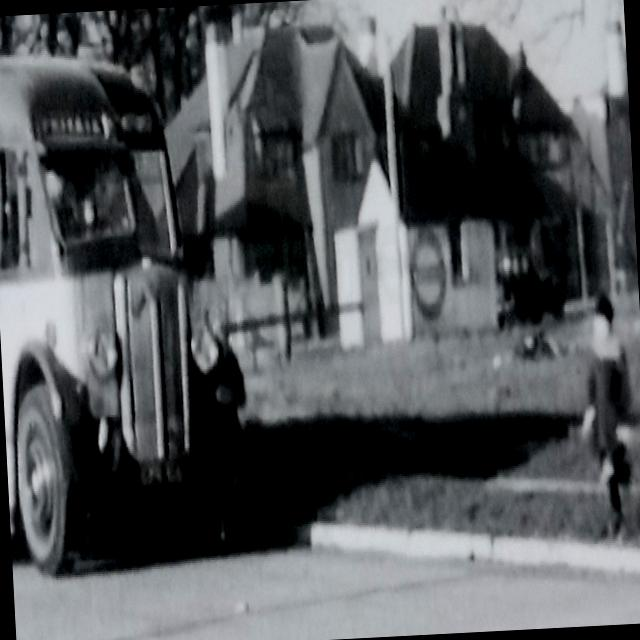Vehicle: (0, 38, 205, 583)
